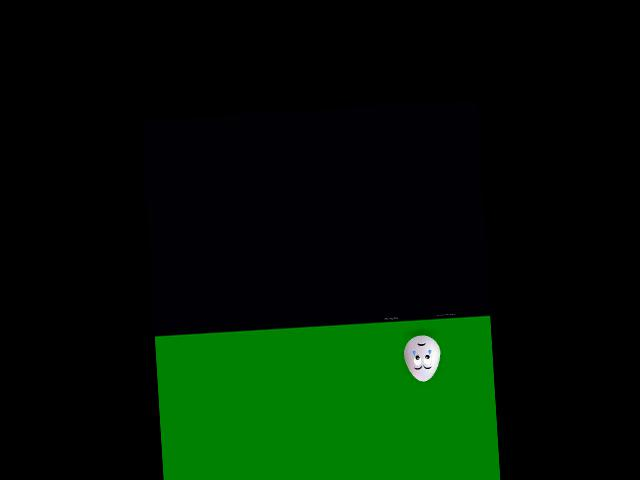egg: (402, 334, 442, 382)
